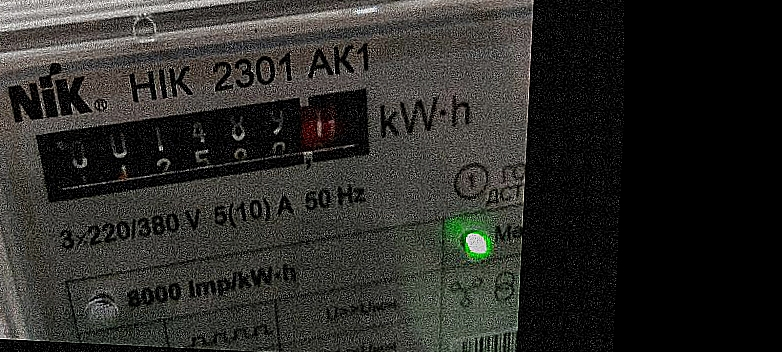0: (103, 123, 131, 160), (65, 135, 90, 171)
1: (307, 101, 328, 140), (148, 121, 169, 153)
4: (186, 113, 209, 145)
8: (226, 107, 249, 144)
9: (266, 103, 287, 136)
screen: (20, 61, 401, 230)
